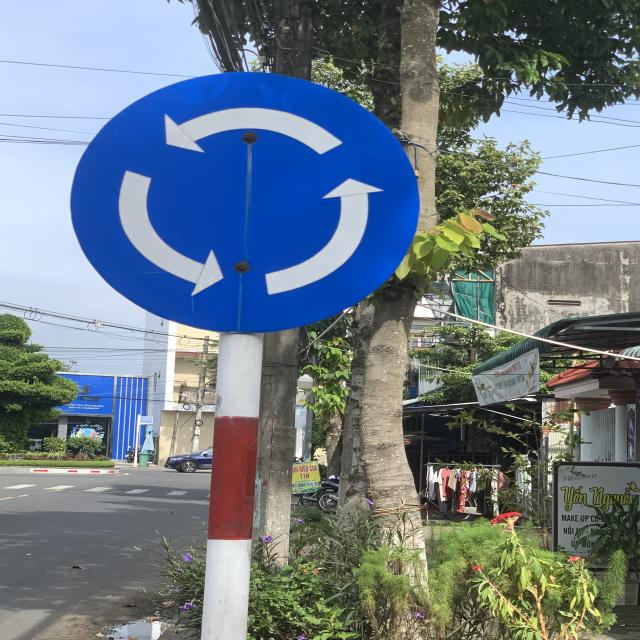Xe_Bus: (73, 70, 423, 336)
